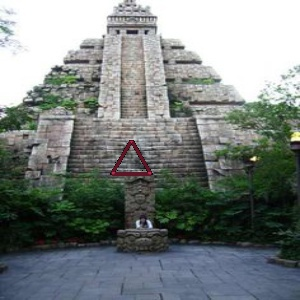triangle: (107, 138, 155, 178)
